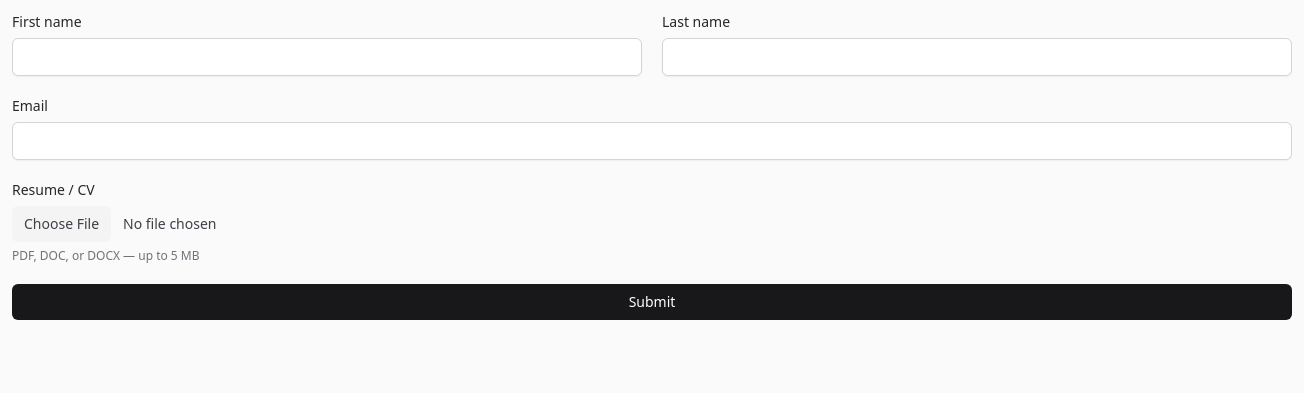
Test: LeadForm › shows field-level errors and doesn't submit when invalid
Click the button "Submit".
click(652, 302)  # box [12, 284, 1292, 320]
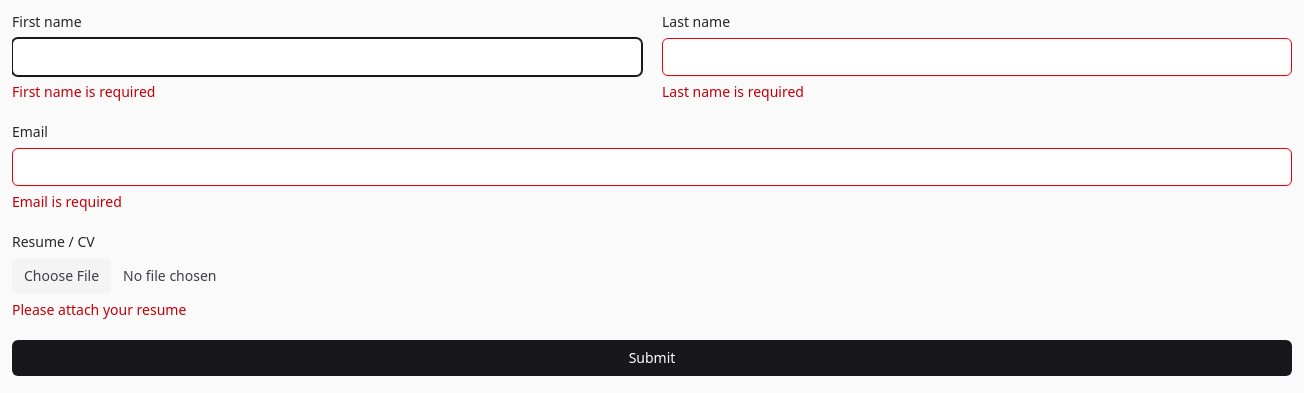
Check: the text "First name is required" is shown, box [12, 82, 155, 101]
Check: the text "Last name is required" is shown, box [662, 82, 804, 101]
Check: the text "Email is required" is shown, box [12, 192, 122, 211]
